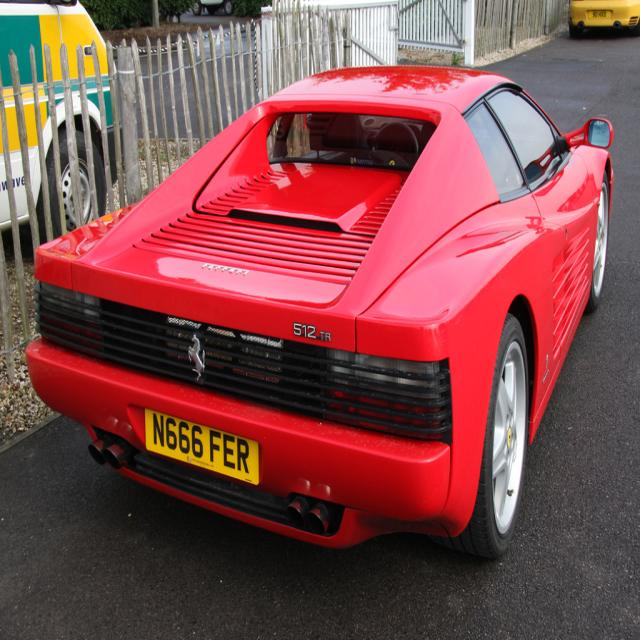car: (25, 63, 613, 560)
